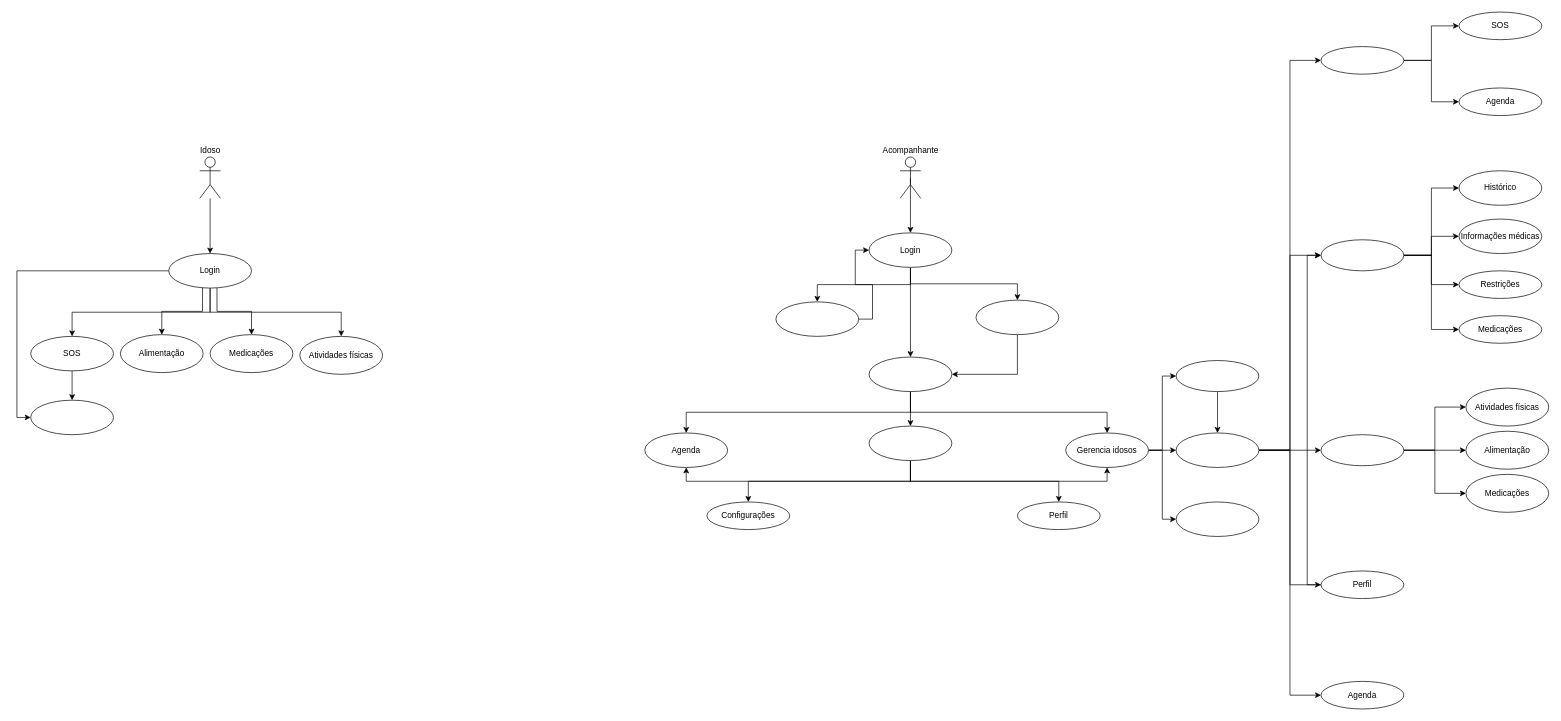
Image size: 1561x721. Some labels were removed from this diagram. The shapes that lost their labels are listed below. From the top down, each one's box as (x1, y1, x2, y2) in pixels, then its label:
(1320, 46, 1404, 74): Notificações
(1320, 239, 1404, 271): Saúde
(775, 301, 859, 336): Recuperação de senha
(975, 299, 1059, 335): Cadastro
(868, 356, 952, 392): Principal
(1175, 360, 1259, 392): Cria idoso
(30, 400, 114, 435): Informações
(868, 425, 952, 461): Menu / navbar
(1175, 432, 1259, 467): Acessa idoso
(1320, 434, 1404, 466): Lembretes
(1175, 501, 1259, 536): Exclui idoso
